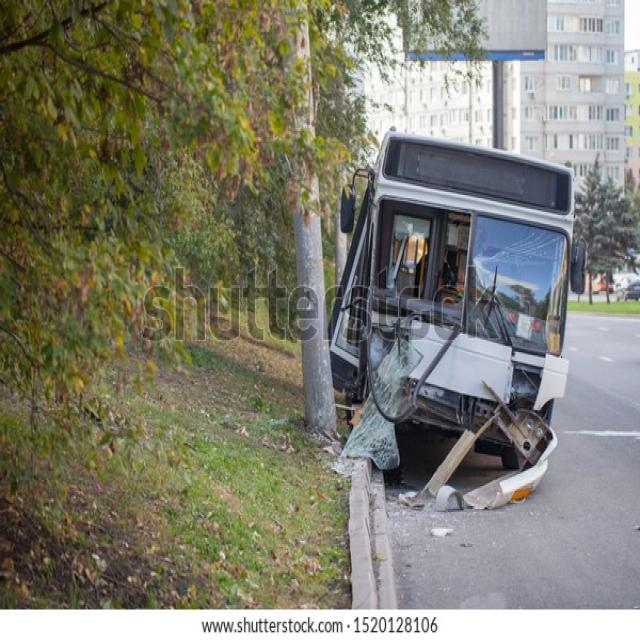Accident: (327, 124, 582, 514)
